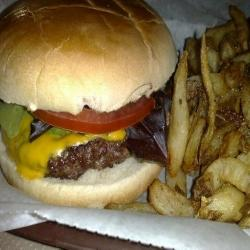burger: (1, 2, 179, 213)
fries: (165, 22, 250, 214)
